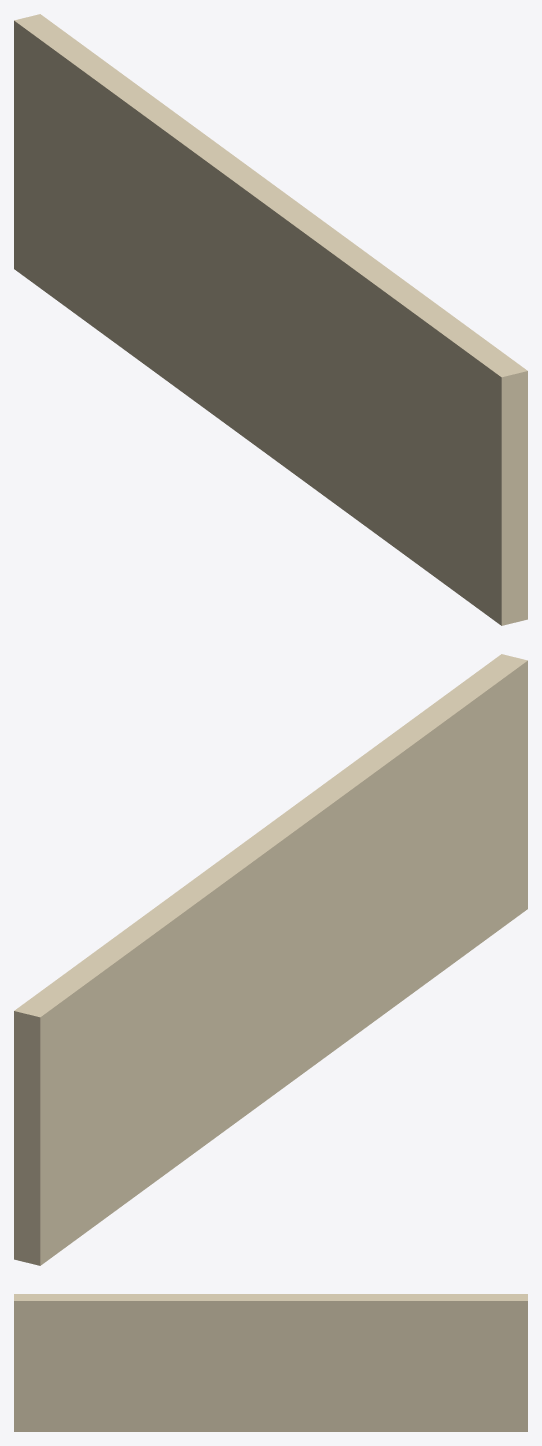
Rendered from LWall.fbx.
3 views of the same model, one above another, from view 1: azimuth 30°, elevation 25°; view 2: azimuth 150°, elevation 25°; view 3: azimuth 270°, elevation 25° (orthographic). The views are drawn at different scales.
Visible parts, largest first — view 1: pCube1; view 2: pCube1; view 3: pCube1.
Part boxes in pixels (x1=…): pCube1: x1=14, y1=14, x2=527, y2=625; pCube1: x1=14, y1=654, x2=527, y2=1265; pCube1: x1=14, y1=1294, x2=527, y2=1431.
Bounding box in the file's own units: 1 × 9 × 32.
